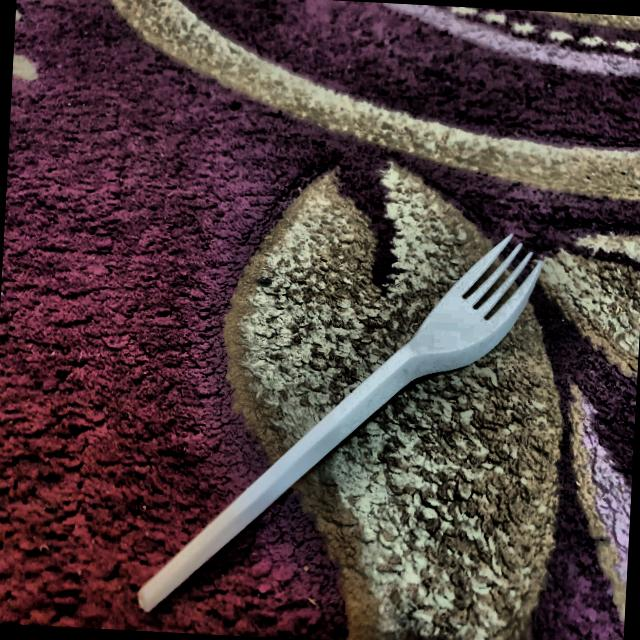plastic utensil: (129, 210, 552, 640)
